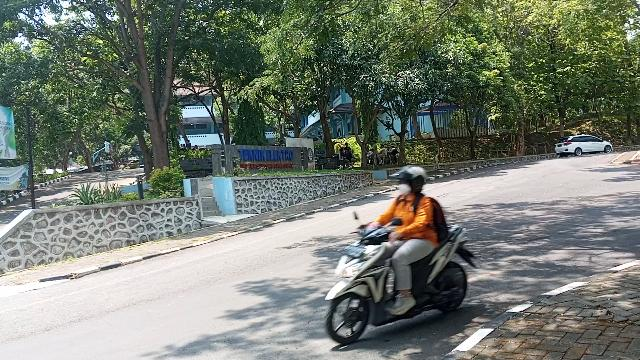helm: (391, 165, 427, 197)
motor: (328, 226, 479, 344)
